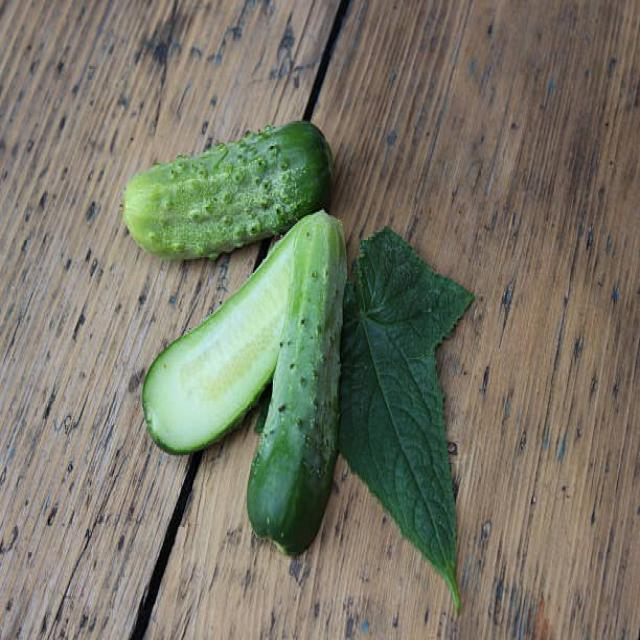cucumber: (143, 210, 347, 557), (123, 116, 332, 260)
